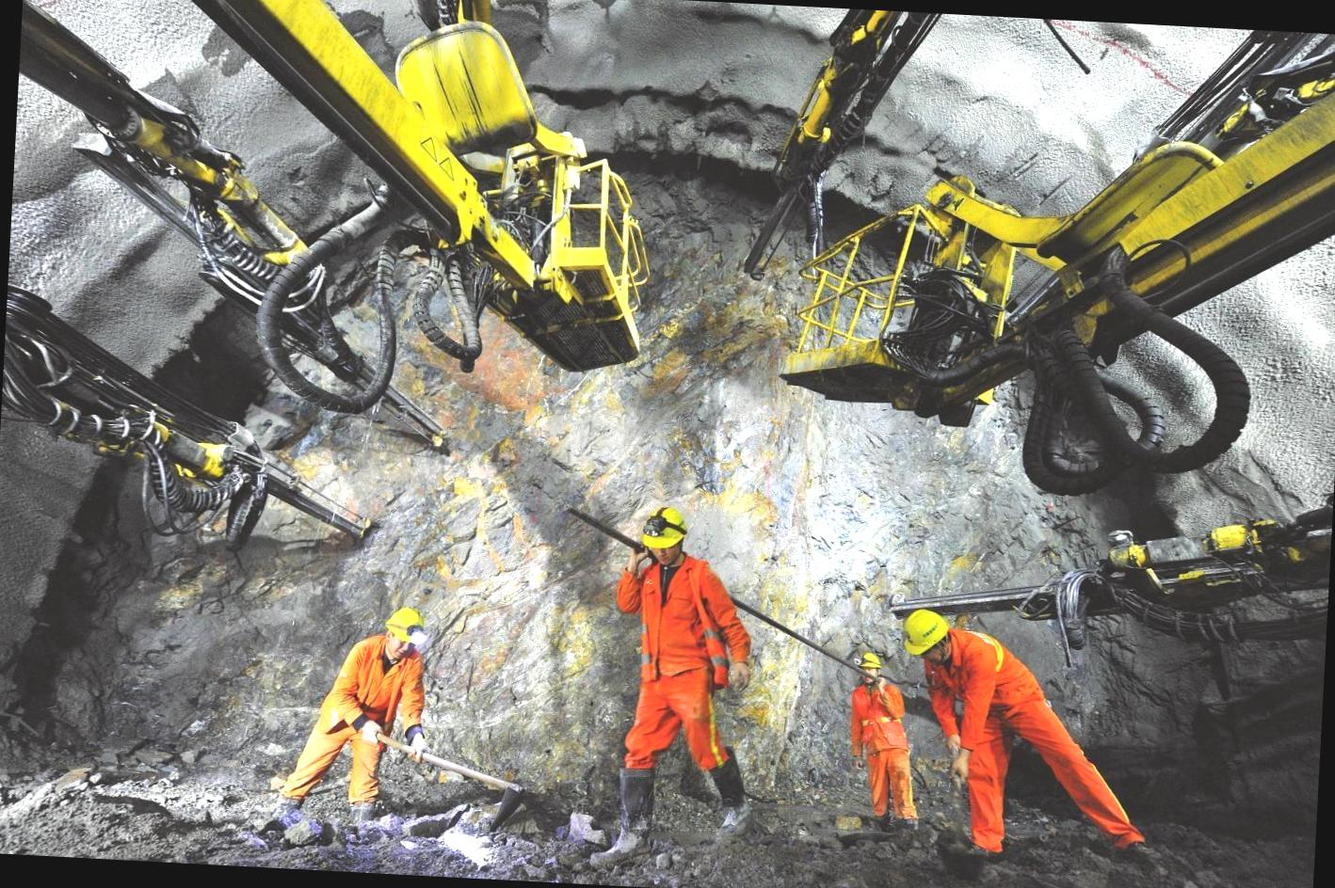helmet: (638, 499, 699, 574), (897, 594, 954, 665)
person: (890, 598, 1181, 874), (581, 492, 770, 869), (260, 587, 444, 841), (843, 648, 928, 843)
